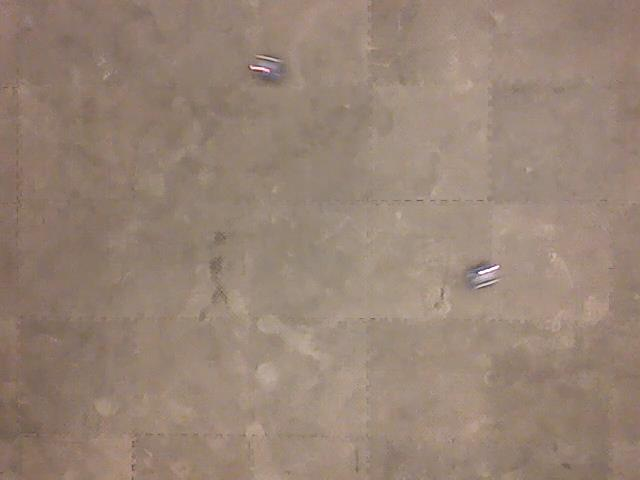Agent: (246, 52, 287, 82), (464, 260, 502, 291)
